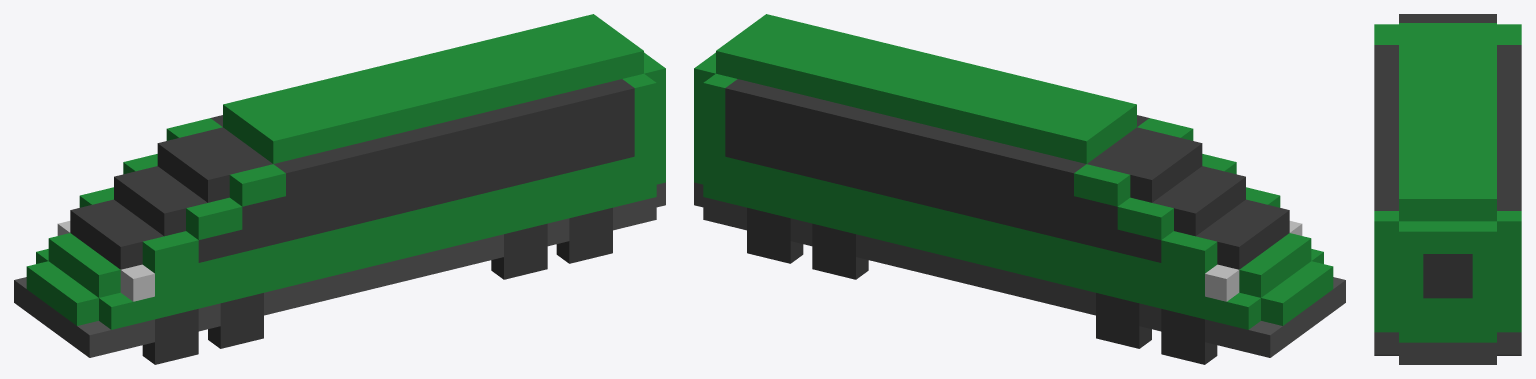
The model's file is train-v1-green.gltf.
3 renders of one model, left to right at view 1: azimuth 30°, elevation 25°; view 2: azimuth 150°, elevation 25°; view 3: azimuth 270°, elevation 25°, orthographic. The views are drawn at different scales.
Visible parts, largest first — view 1: model, wheels; view 2: model, wheels; view 3: model.
Boxes of the visible parts, bbox=[...] form: model: bbox=[14, 14, 665, 357]; wheels: bbox=[142, 207, 612, 364]; model: bbox=[694, 14, 1345, 357]; wheels: bbox=[747, 207, 1217, 364]; model: bbox=[1374, 14, 1521, 364].
Size of the model in its own units: 2.7 by 0.8 by 0.6.
2 materials, 2 textured.
